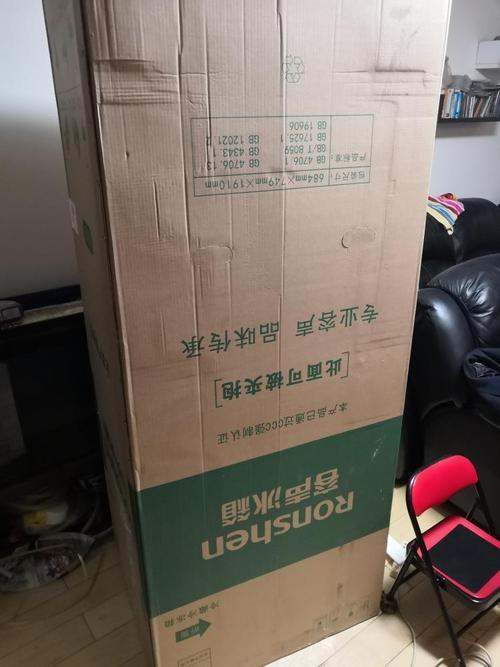cardboard: (79, 0, 447, 666)
